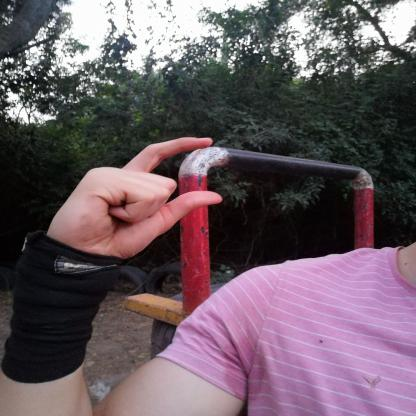DELL: (36, 128, 235, 270)
